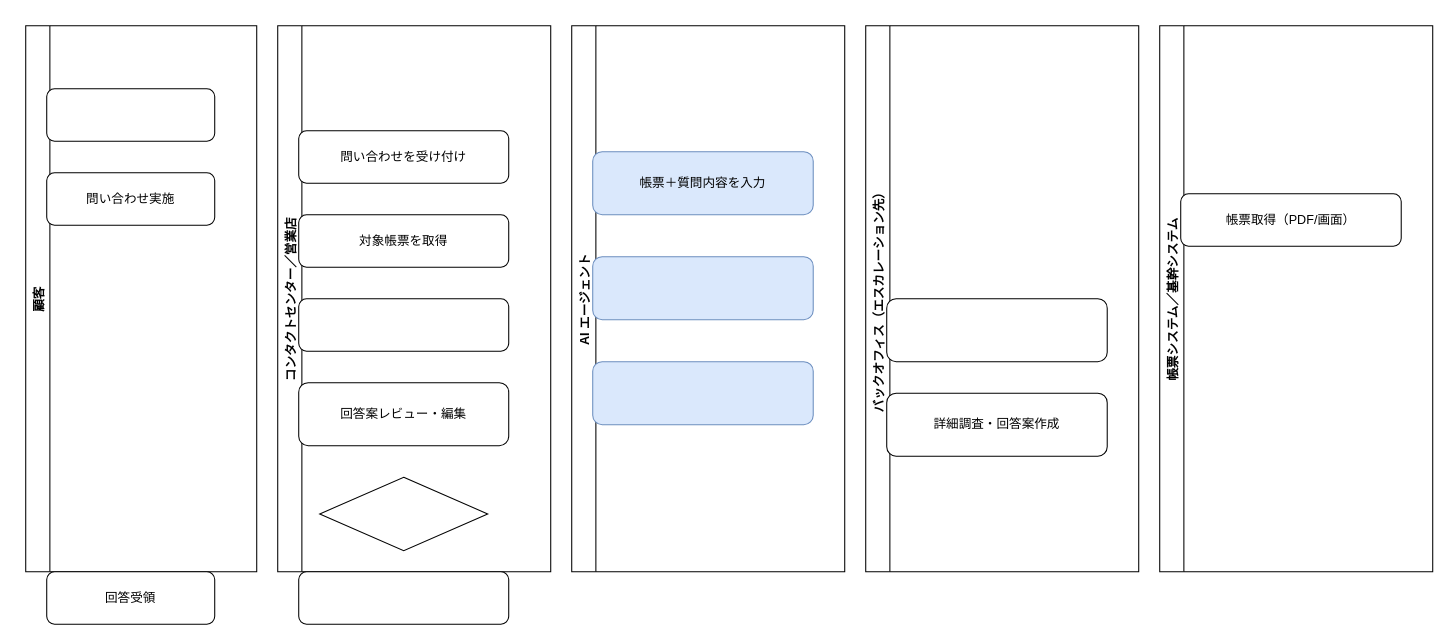
Image size: 1451x643. Some labels were removed from this diagram. The shapes that lost their labels are listed below. From the top down, each one's centre as x and y in pixels, then its label:
At (130,114): "帳票を確認".
At (702,288): "帳票解析・ 該当箇所特定".
At (403,324): "AIエージェント画面を起動".
At (996,330): "バックオフィスへエスカレーション".
At (702,393): "回答案＋根拠生成".
At (403,513): "判断できる？".
At (403,597): "顧客へ回答".
